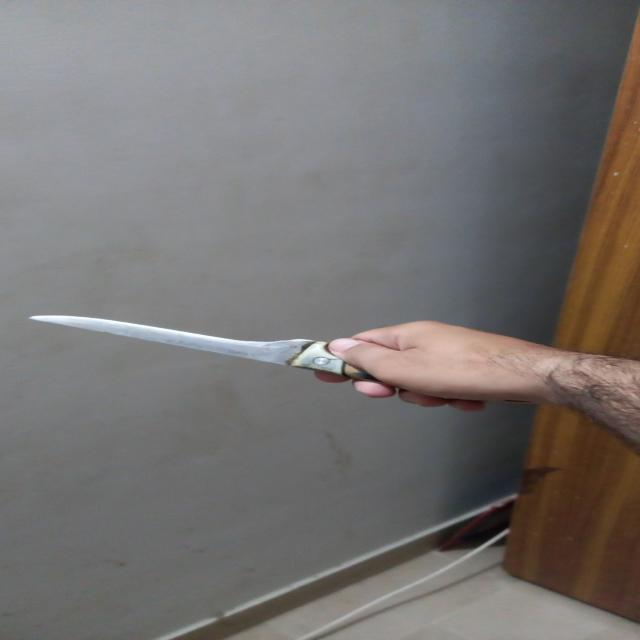knife: (21, 290, 511, 427)
